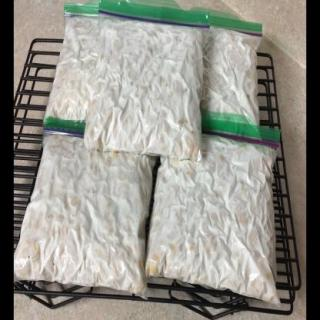Tempe: (15, 132, 156, 299)
